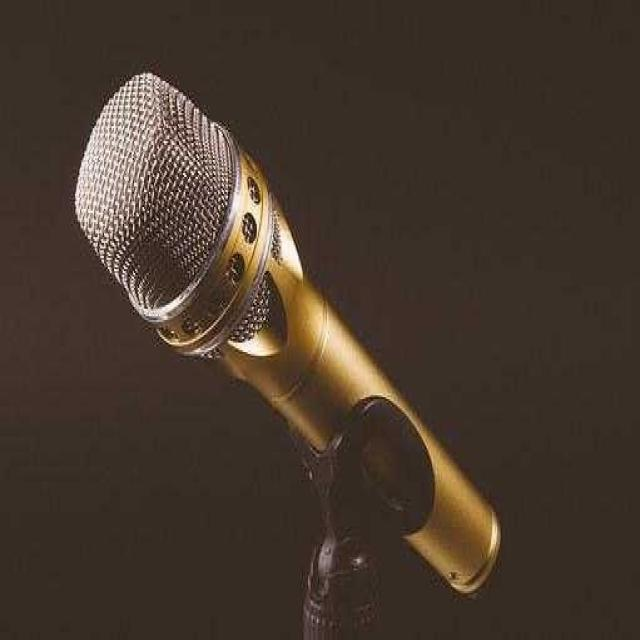microphone: (76, 74, 492, 623)
